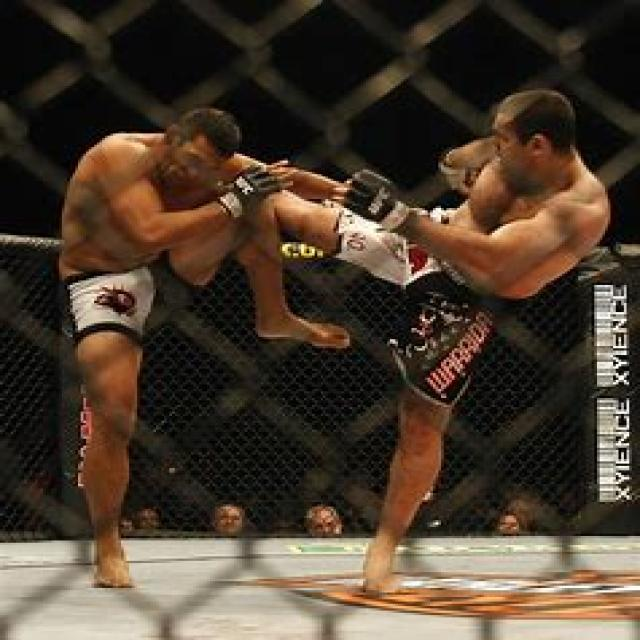fight: (30, 44, 624, 495)
